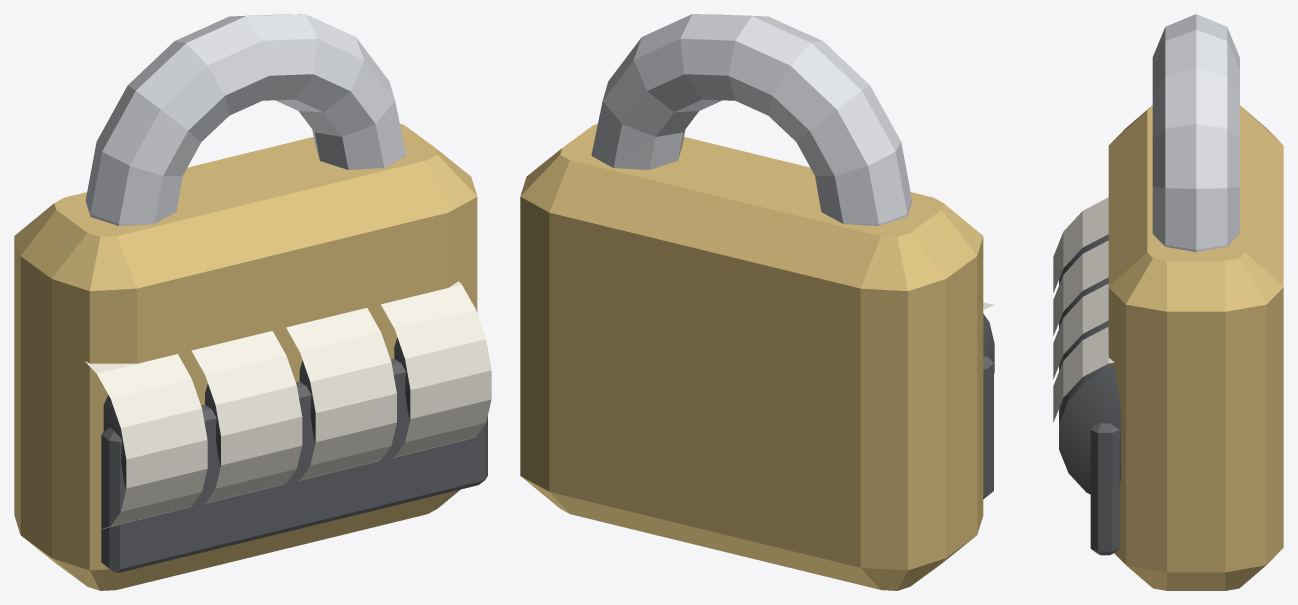
Rendered from escape-room-and-puzzle-venue-combination-padlock-9dd9843e__35782.glb.
The picture shows the model from 3 angles, left to right: view 1: azimuth 30°, elevation 25°; view 2: azimuth 150°, elevation 25°; view 3: azimuth 270°, elevation 25°; orthographic projection. The views are drawn at different scales.
Parts seen in each view (by area): view 1: combination-padlock; view 2: combination-padlock; view 3: combination-padlock.
Boxes of the visible parts, x1,y1,x2,y2 form: combination-padlock: [14, 14, 491, 590]; combination-padlock: [520, 14, 994, 590]; combination-padlock: [1053, 14, 1283, 590].
Bounding box in the file's own units: 0.062 × 0.073 × 0.0316.
